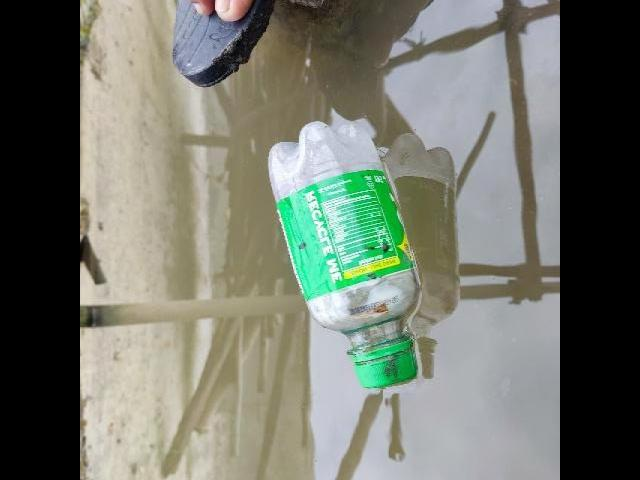Bottle: (260, 112, 428, 406)
